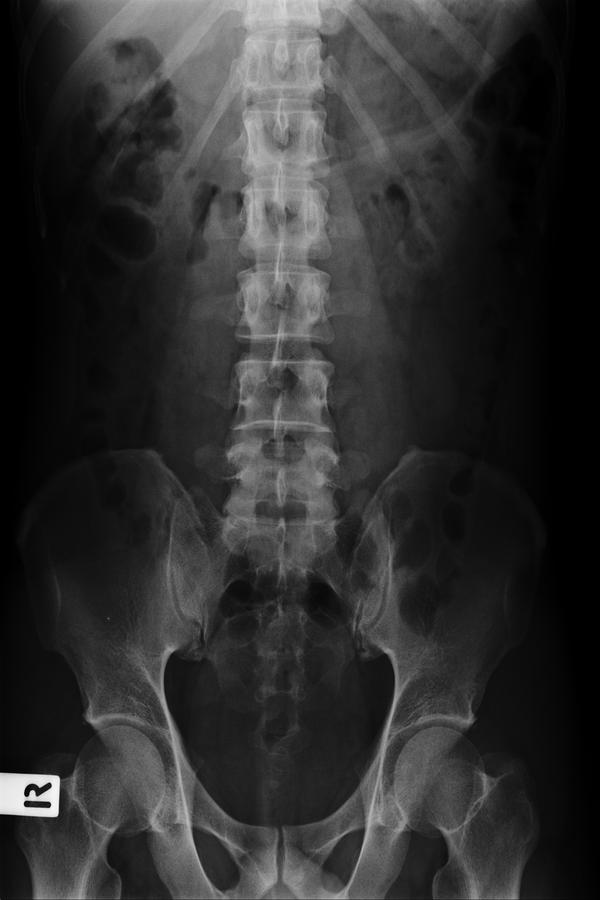not lumbar scoliosis: (212, 188, 344, 600)
